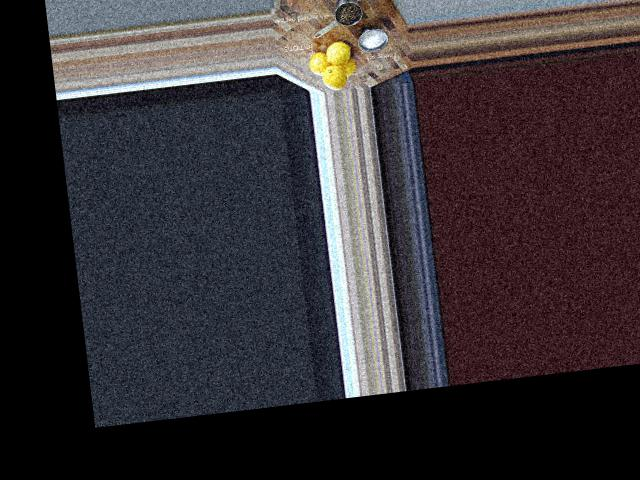lemon: (338, 55, 359, 75)
